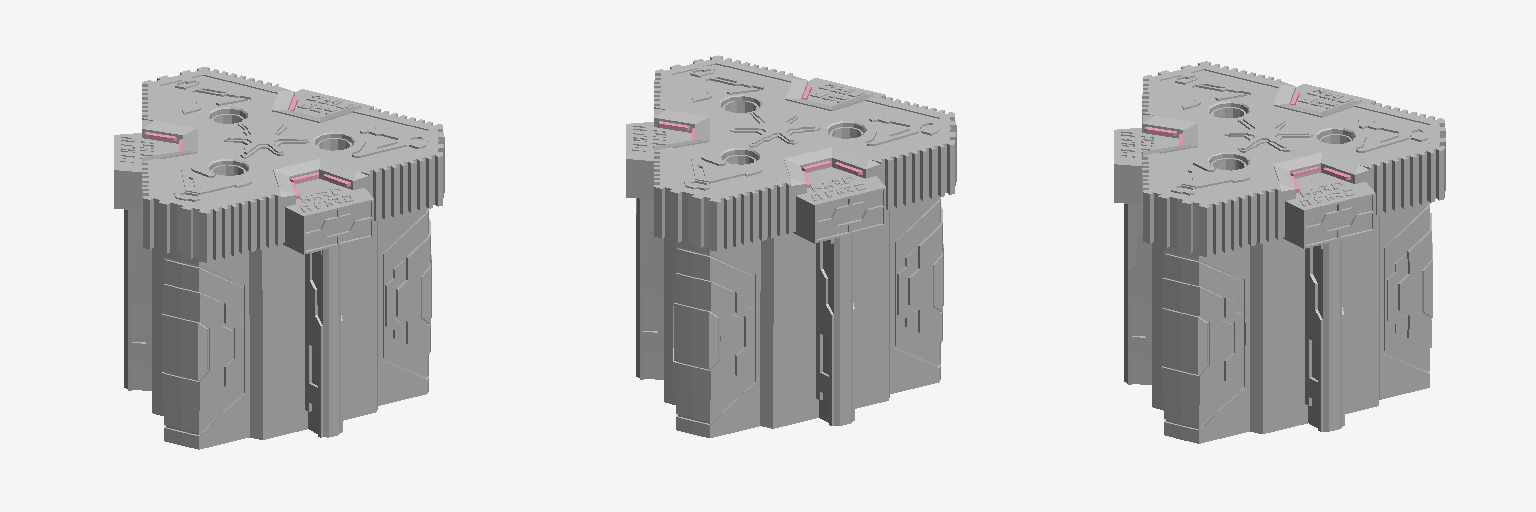
File: zpmhub_handheld.obj
The picture shows the model from 3 angles: view 1: azimuth 30°, elevation 25°; view 2: azimuth 150°, elevation 25°; view 3: azimuth 270°, elevation 25°; orthographic projection.
Parts seen in each view (by area): view 1: pg_zpm_hub.001; view 2: pg_zpm_hub.001; view 3: pg_zpm_hub.001.
Part boxes in pixels (left/top/right/bottom): pg_zpm_hub.001: left=114, top=67, right=444, bottom=449; pg_zpm_hub.001: left=626, top=55, right=956, bottom=437; pg_zpm_hub.001: left=1114, top=61, right=1445, bottom=443.
Bounding box in the file's own units: 59.49 × 46.75 × 56.96.